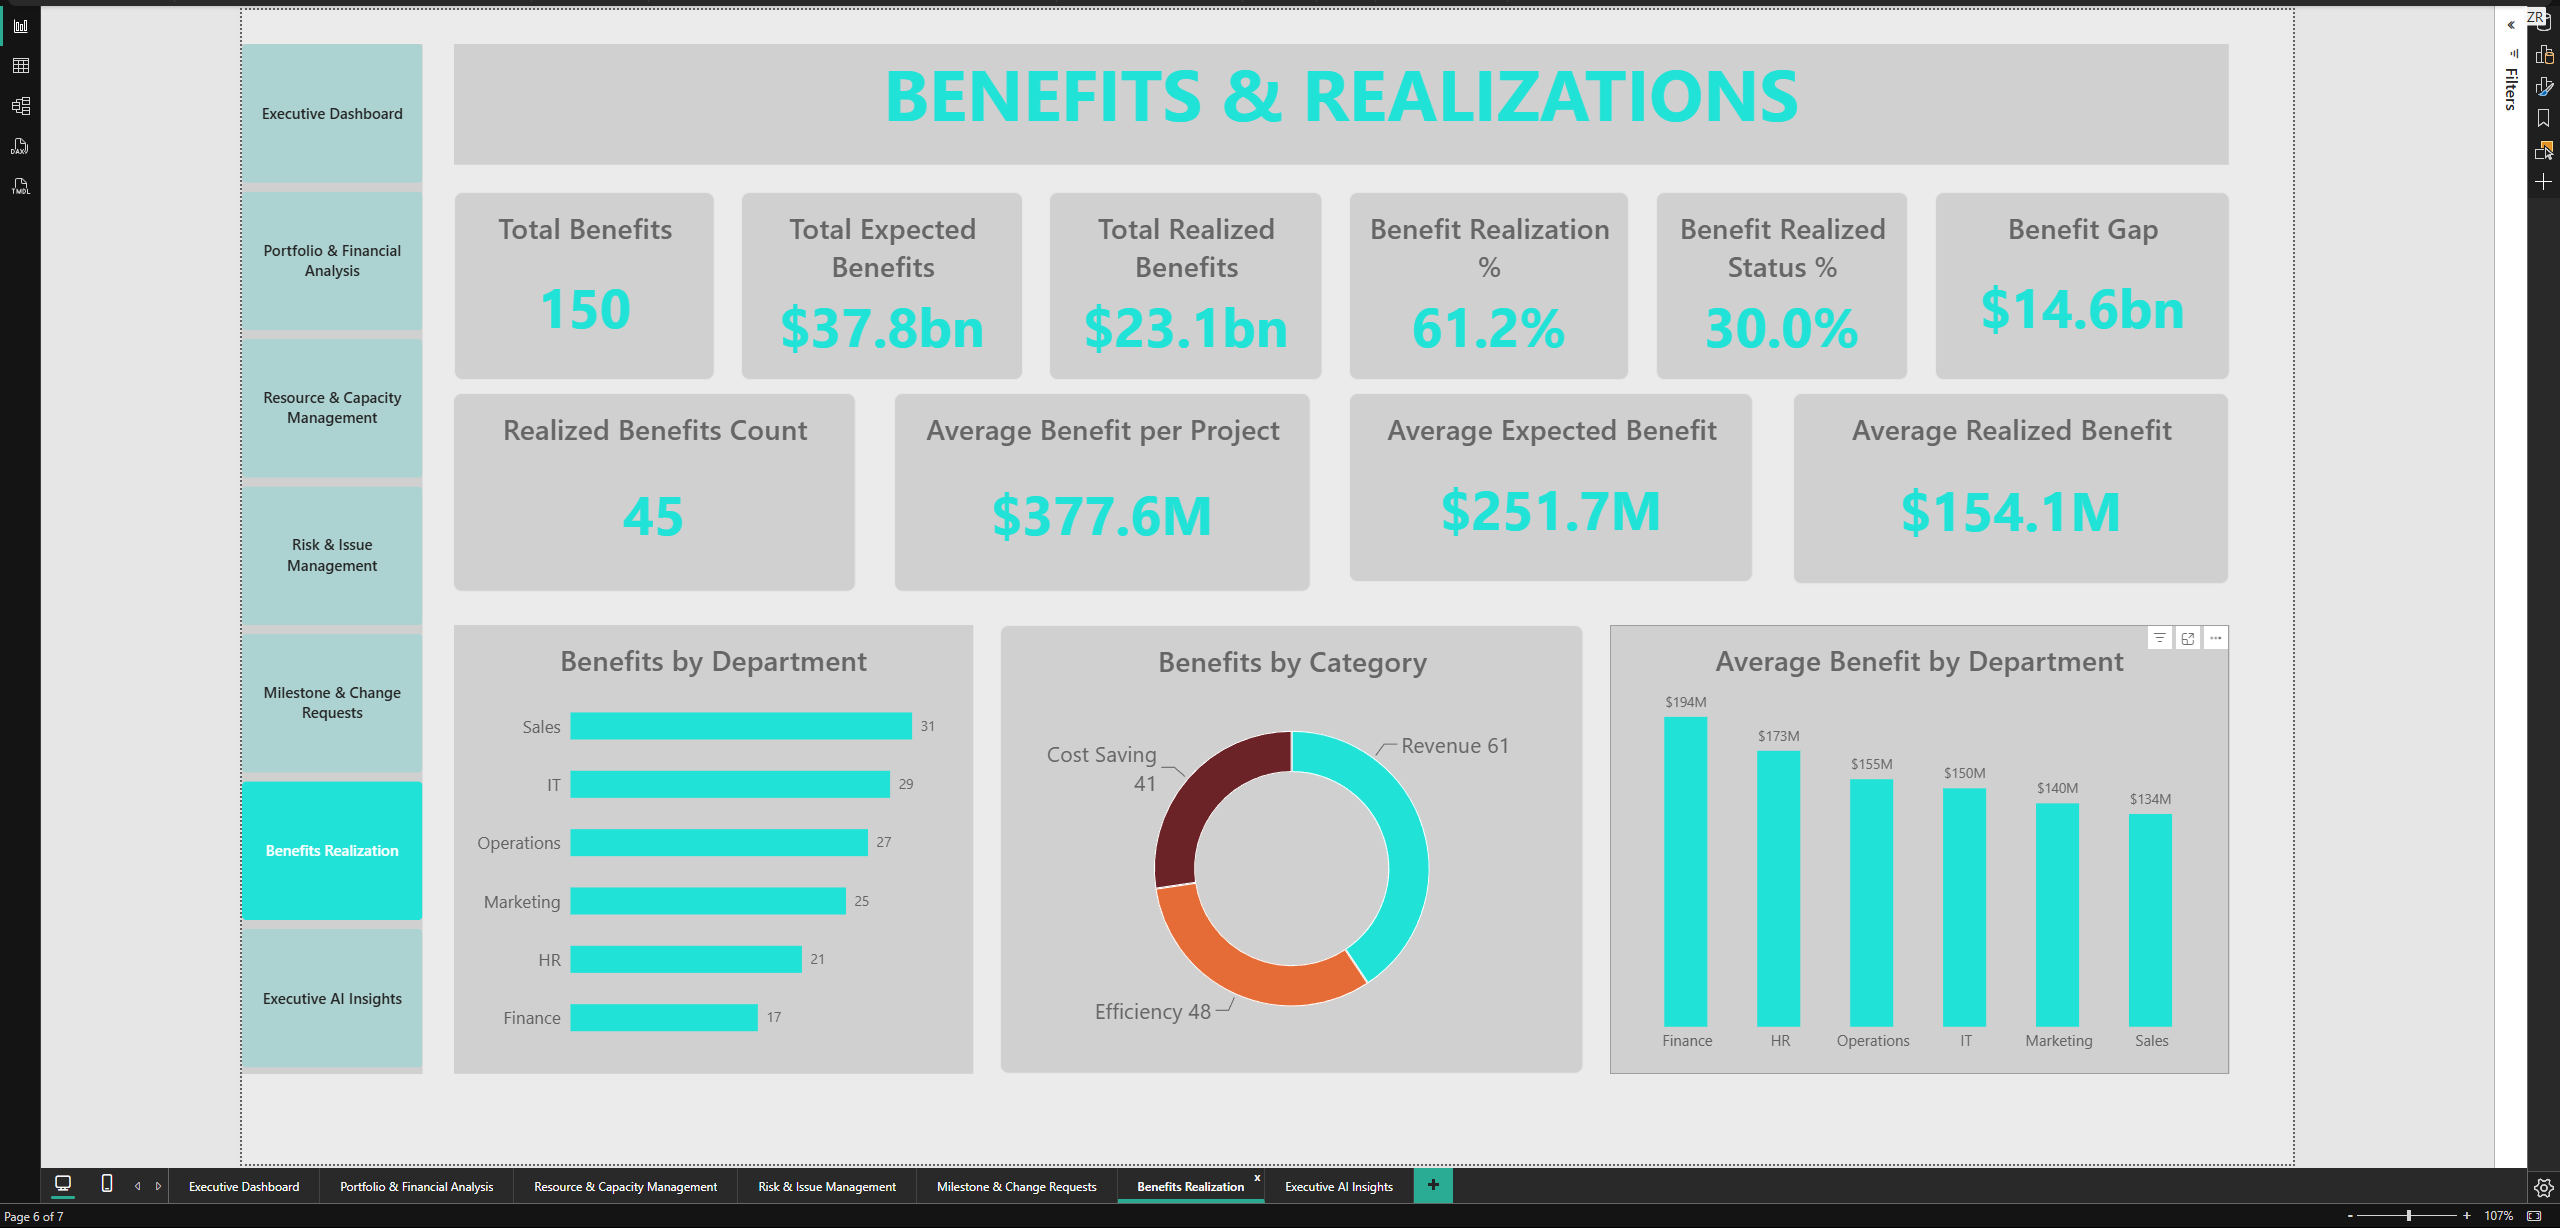

This screenshot's page, from the dashboard's own definition file:
{"tool":"powerbi","page":{"name":"Benefits Realization","canvas":[1920,1080],"ordinal":5},"visuals":[{"type":"card","title":"Total Benefits","fields":{"Values":["Measure Table.Total Benefits"]},"box":[198,170,244,176],"z":0},{"type":"card","title":"Benefit Realization %","fields":{"Values":["Measure Table.Benefit Realization %"]},"box":[1036.4,170,262,176],"z":1000},{"type":"card","title":"Average Realized Benefit","fields":{"Values":["Measure Table.Average Realized Benefit"]},"box":[1451.1,358.2,408,179.1],"z":2000},{"type":"textbox","title":"BENEFITS & REALIZATIONS","box":[198,32,1661,113],"z":3000},{"type":"clusteredBarChart","title":"Benefits by Department","fields":{"Category":["pmo projects.department"],"Y":["Measure Table.Total Benefits"]},"box":[198,576,486,420],"z":4000},{"type":"donutChart","title":"Benefits by Category","fields":{"Category":["pmo benefits.benefit_category"],"Y":["Measure Table.Total Benefits"]},"box":[709,576,546,420],"z":5000},{"type":"clusteredColumnChart","title":"Average Benefit by Department","fields":{"Category":["pmo projects.department"],"Y":["Measure Table.Average Realized Benefit"]},"box":[1280,576,580,420],"z":6000},{"type":"card","title":"Total Realized Benefits","fields":{"Values":["Measure Table.Total Realized Benefits"]},"box":[755.6,170,256,176],"z":7000},{"type":"card","title":"Realized Benefits Count","fields":{"Values":["Measure Table.Realized Benefits Counts"]},"box":[197.5,358.2,376.6,186.5],"z":8000},{"type":"card","title":"Total Expected Benefits","fields":{"Values":["Measure Table.Total Expected Benefits"]},"box":[466.8,170,264,176],"z":9000},{"type":"card","title":"Average Benefit per Project","fields":{"Values":["Measure Table.Average Benefit per Project"]},"box":[610.5,358.2,389.5,186.5],"z":10000},{"type":"card","title":"Average Expected Benefit","fields":{"Values":["Measure Table.Average Expected Benefit"]},"box":[1036.3,358.2,378.5,177.2],"z":11000},{"type":"card","title":"Benefit Gap","fields":{"Values":["Measure Table.Benefit Gap"]},"box":[1584,170,276,176],"z":12000},{"type":"card","title":"Benefit Realized Status %","fields":{"Values":["Measure Table.Benefit Realized Status %"]},"box":[1323.2,170,236,176],"z":13000},{"type":"pageNavigator","box":[0,32,169,964],"z":14000}]}

Visuals, with their boxes on the page's 1920x1080 design canvas (x1, y1, x2, y2). These are canvas units, not pixel positions in the 2560x1228 screenshot, which may show the page scaled, cropped or inside an application window:
"Total Benefits" card: pyautogui.locateOnScreen(198, 170, 442, 346)
"Benefit Realization %" card: pyautogui.locateOnScreen(1036, 170, 1298, 346)
"Average Realized Benefit" card: pyautogui.locateOnScreen(1451, 358, 1859, 537)
"BENEFITS & REALIZATIONS" textbox: pyautogui.locateOnScreen(198, 32, 1859, 145)
"Benefits by Department" clusteredBarChart: pyautogui.locateOnScreen(198, 576, 684, 996)
"Benefits by Category" donutChart: pyautogui.locateOnScreen(709, 576, 1255, 996)
"Average Benefit by Department" clusteredColumnChart: pyautogui.locateOnScreen(1280, 576, 1860, 996)
"Total Realized Benefits" card: pyautogui.locateOnScreen(756, 170, 1012, 346)
"Realized Benefits Count" card: pyautogui.locateOnScreen(198, 358, 574, 545)
"Total Expected Benefits" card: pyautogui.locateOnScreen(467, 170, 731, 346)
"Average Benefit per Project" card: pyautogui.locateOnScreen(610, 358, 1000, 545)
"Average Expected Benefit" card: pyautogui.locateOnScreen(1036, 358, 1415, 535)
"Benefit Gap" card: pyautogui.locateOnScreen(1584, 170, 1860, 346)
"Benefit Realized Status %" card: pyautogui.locateOnScreen(1323, 170, 1559, 346)
pageNavigator: pyautogui.locateOnScreen(0, 32, 169, 996)
